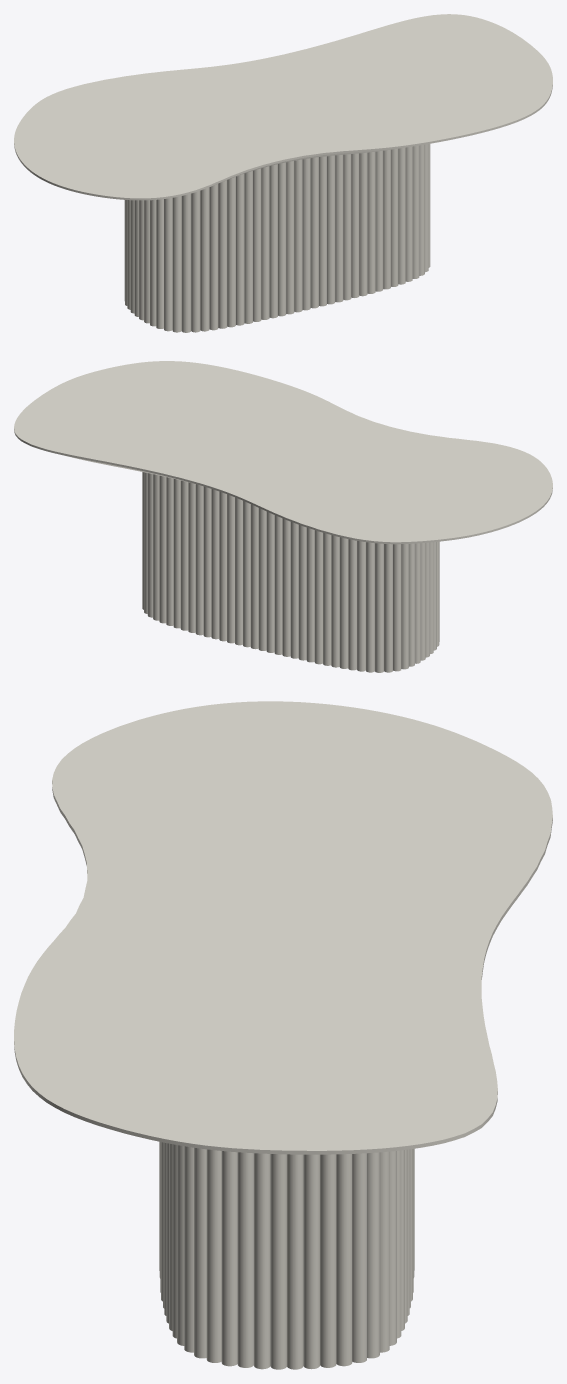
The model's file is pale_wave_facet_newtable.glb.
3 renders of one model, top to bottom at view 1: azimuth 30°, elevation 25°; view 2: azimuth 150°, elevation 25°; view 3: azimuth 270°, elevation 25°, orthographic. The views are drawn at different scales.
Visible parts, largest first — view 1: facet_wave, newtable; view 2: facet_wave, newtable; view 3: facet_wave, newtable.
Boxes of the visible parts, left/top/right/bottom form: facet_wave: left=14, top=14, right=552, bottom=200; newtable: left=124, top=144, right=430, bottom=332; facet_wave: left=14, top=361, right=552, bottom=544; newtable: left=142, top=472, right=439, bottom=672; facet_wave: left=14, top=701, right=552, bottom=1154; newtable: left=159, top=1141, right=414, bottom=1369.
Size of the model in its own units: 7.5 by 2.5 by 3.8.
Materials: 2 (2 with a texture image).
